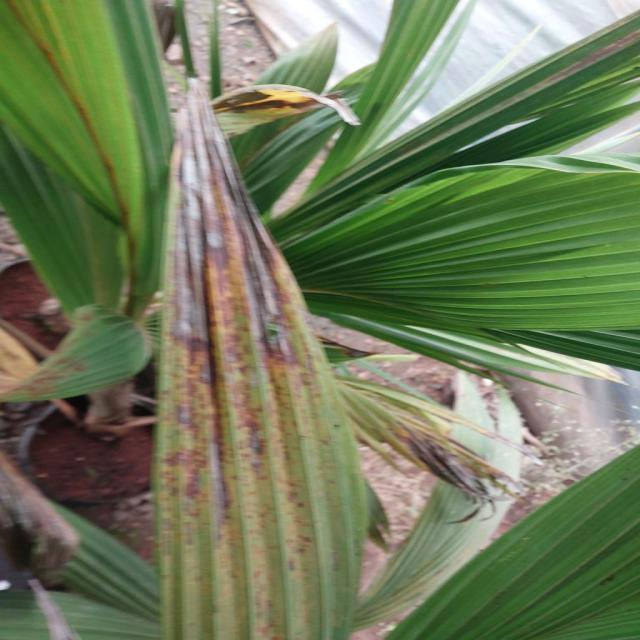gray leaf spot: (150, 0, 473, 640)
